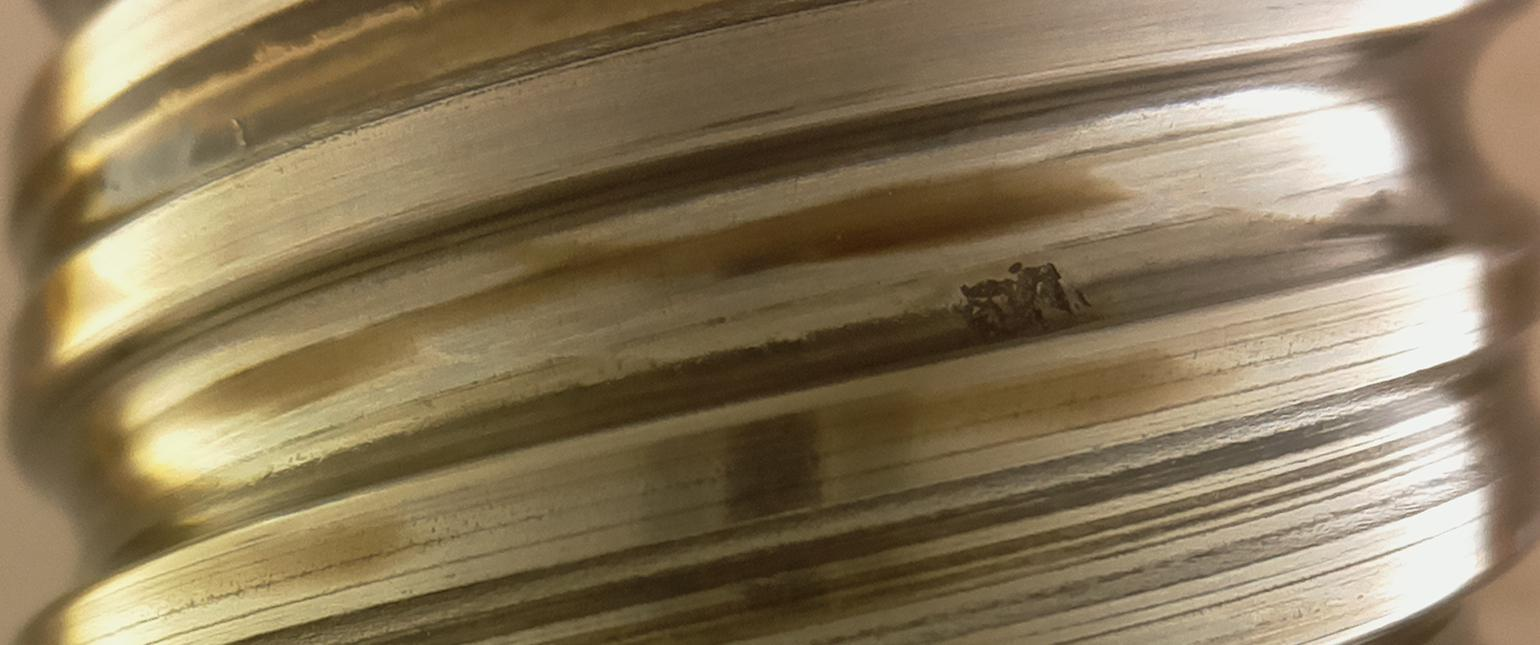pitting: (959, 262, 1071, 347), (1075, 289, 1092, 306)
